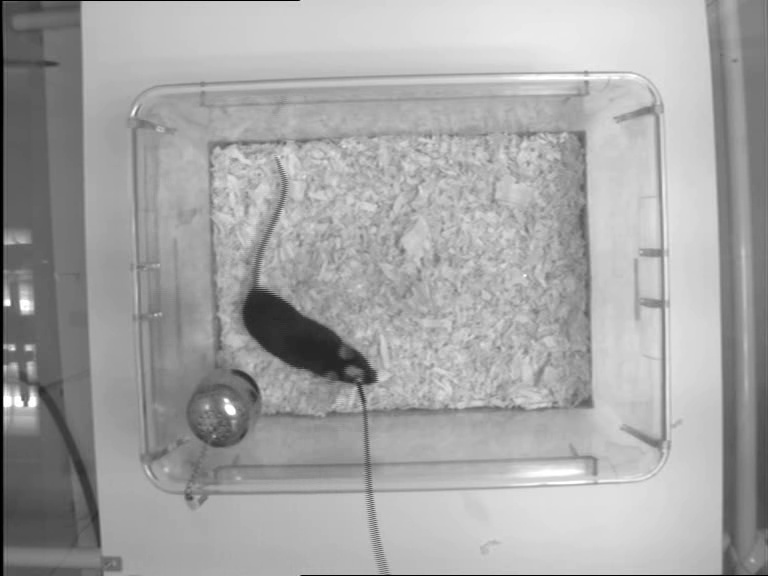mice: (242, 155, 379, 388)
